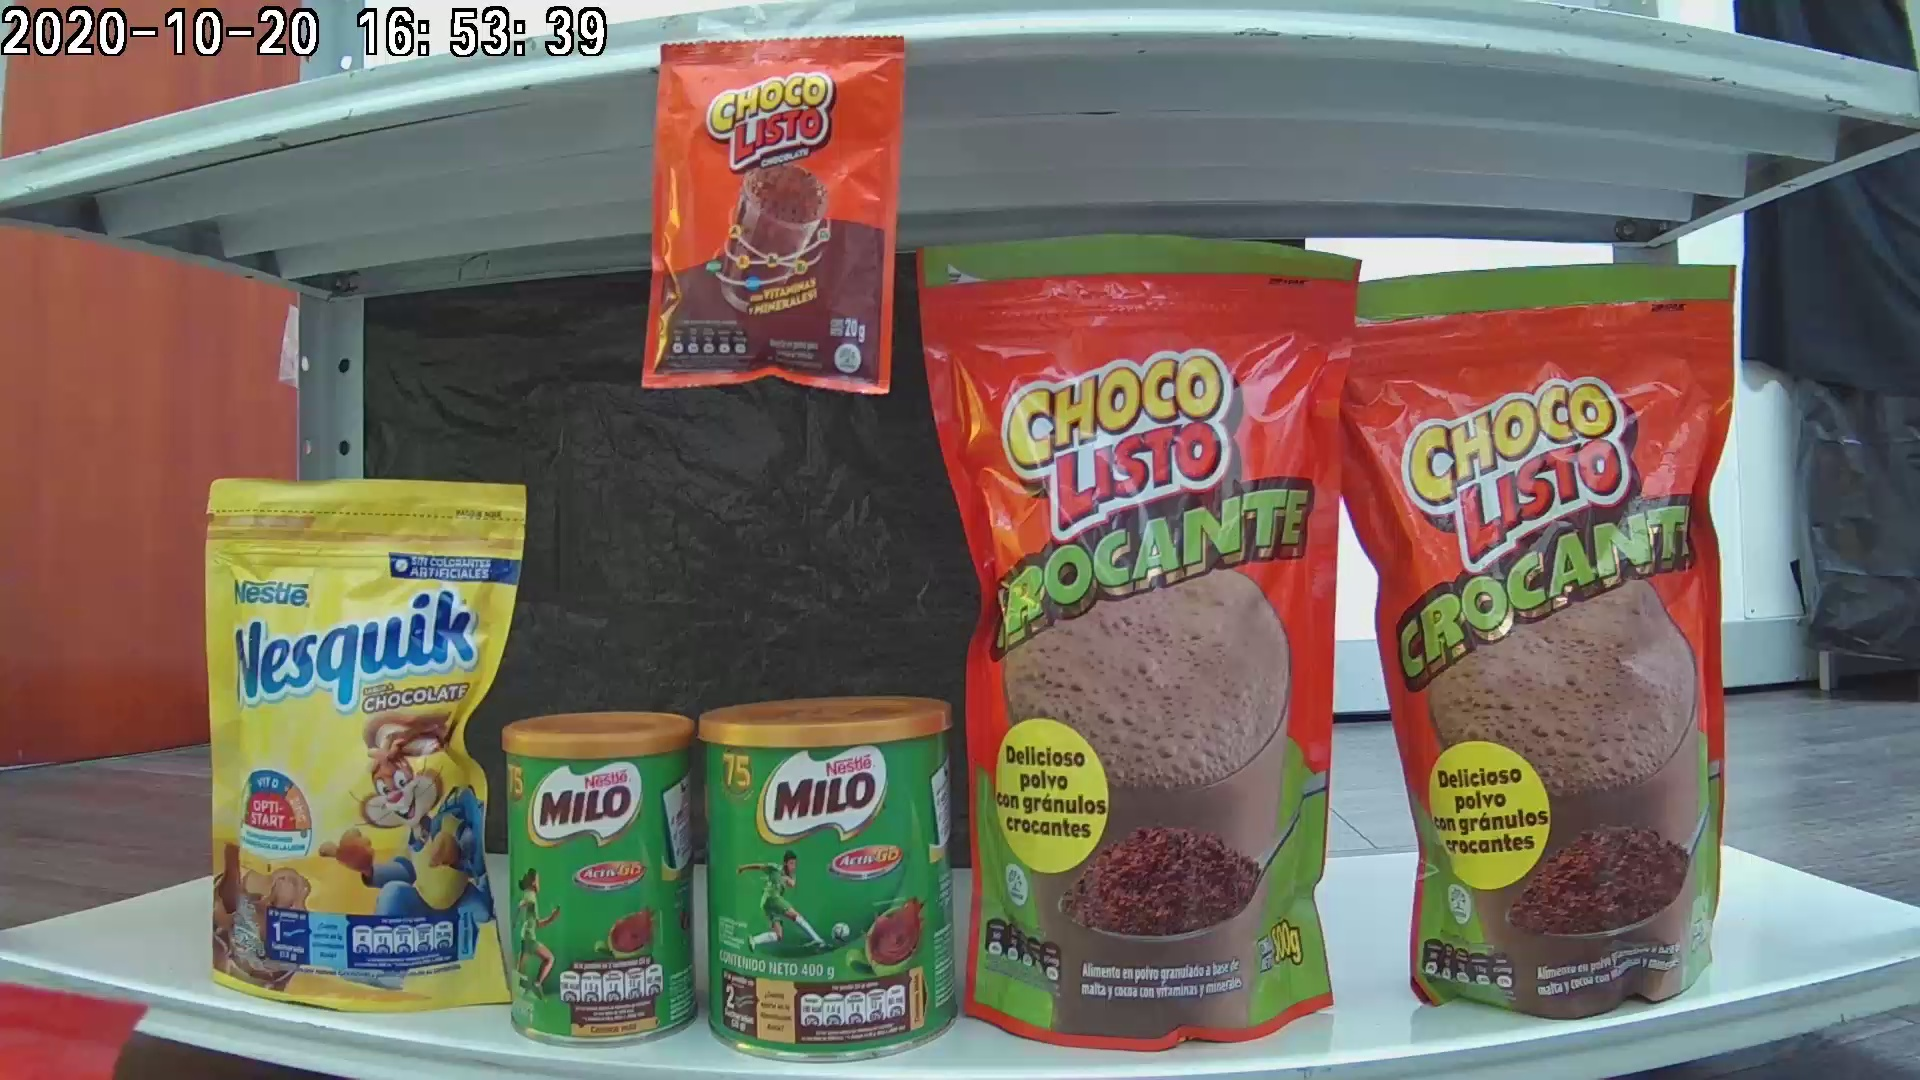COL0170102DYP50000: (902, 229, 1389, 1062)
COL0170103SOB02000: (636, 24, 914, 402)
COL0170203LAT20000: (480, 704, 713, 1058)
COL0170203LAT40000: (692, 688, 976, 1075)
COL0170303DYP20000: (186, 459, 520, 1021)
